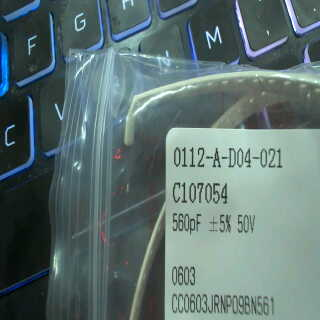560pF: (169, 211, 206, 236)
